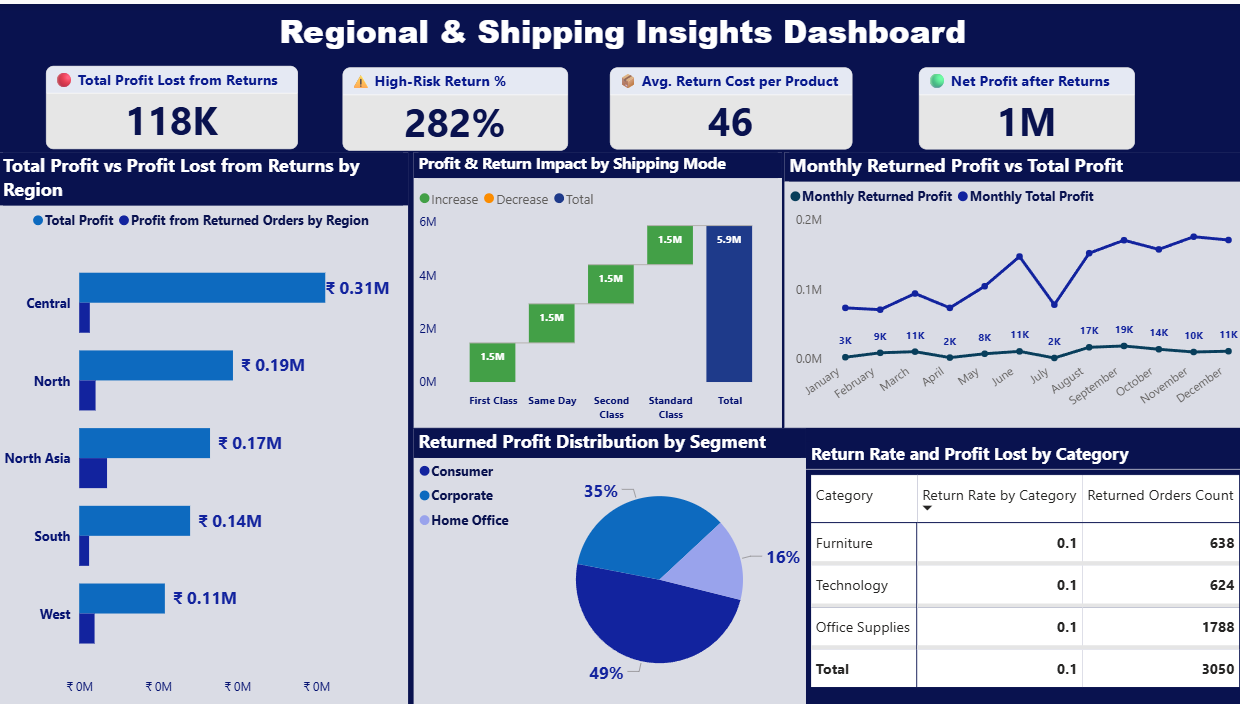

What the dashboard file says about the page in this screenshot:
{"tool":"powerbi","page":{"name":"Page 4","canvas":[1280,720],"ordinal":3},"visuals":[{"type":"card","title":"🔴 Total Profit Lost from Returns","fields":{"Values":["Orders.Profit from Returned Orders"]},"box":[0,64.3,257.4,86.4],"z":0},{"type":"card","title":"🟢 Net Profit after Returns","fields":{"Values":["Orders.Net Profit after Returns"]},"box":[751.8,64.3,221.8,84.7],"z":1000},{"type":"card","title":"📦 Avg. Return Cost per Product","fields":{"Values":["Orders.Avg Return Cost per Product"]},"box":[497.8,64.3,248.9,84.7],"z":2000},{"type":"card","title":"⚠️ High-Risk Return %","fields":{"Values":["Orders.High-Risk Return %"]},"box":[262.5,64.3,232,86.3],"z":3000},{"type":"clusteredBarChart","title":"Total Profit vs Profit Lost from Returns by Region","fields":{"Category":["Orders.Region"],"Y":["Orders.Total Profit","Orders.Profit from Returned Orders by Region"]},"box":[0,152.4,419.9,567.2],"z":4000},{"type":"pivotTable","title":"Return Rate and Profit Lost by Category","fields":{"Rows":["Orders.Category"],"Values":["Orders.Return Rate by Category","Orders.Returned Orders Count"]},"box":[828,448,452,272],"z":5000},{"type":"waterfallChart","title":"Profit & Return Impact by Shipping Mode","fields":{"Category":["Orders.Ship Mode"],"Y":["Orders.Profit by Shipping Mode"]},"box":[425,152.5,377.5,282.5],"z":6000},{"type":"pieChart","title":"Returned Profit Distribution by Segment","fields":{"Y":["Orders.Returned Profit by Segment"],"Category":["Orders.Segment"]},"box":[426,436,402,284],"z":7000},{"type":"lineChart","title":"Monthly Returned Profit vs Total Profit","fields":{"Y":["Orders.Monthly Returned Profit","Orders.Monthly Total Profit"],"Category":["Orders.OrderDate.Variation.Date Hierarchy.Month"]},"box":[806,152,474,282],"z":8000},{"type":"textbox","box":[0,0,1280.1,64.3],"z":9000}]}

Visuals, with their boxes in screenshot pixels (x1, y1, x2, y2), scaled from the page's 1280x720 canvas onto the 1240x704 screenshot:
"🔴 Total Profit Lost from Returns" card: [0,63,249,147]
"🟢 Net Profit after Returns" card: [728,63,943,146]
"📦 Avg. Return Cost per Product" card: [482,63,723,146]
"⚠️ High-Risk Return %" card: [254,63,479,147]
"Total Profit vs Profit Lost from Returns by Region" clusteredBarChart: [0,149,407,703]
"Return Rate and Profit Lost by Category" pivotTable: [802,438,1239,703]
"Profit & Return Impact by Shipping Mode" waterfallChart: [412,149,777,425]
"Returned Profit Distribution by Segment" pieChart: [413,426,802,703]
"Monthly Returned Profit vs Total Profit" lineChart: [781,149,1239,424]
textbox: [0,0,1239,63]
